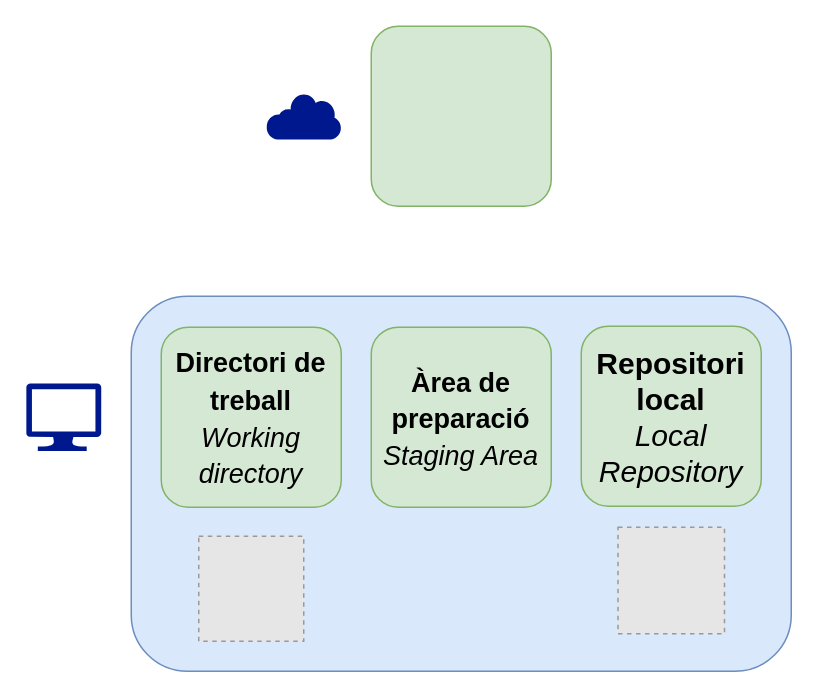
Some shapes in this 818 by 698 pixel diagram are drawn without their labels. Grey dashed boxes stand in for pictures. Each missing label, with the box of its shape:
Local - Entorn de desenvolupament: (130, 295, 791, 671)
Repositori Remot Remote Repository: (370, 25, 551, 206)
